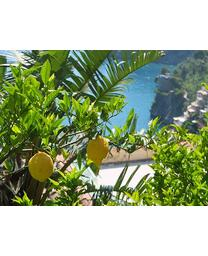lemon: (28, 153, 54, 181), (87, 137, 109, 161)
